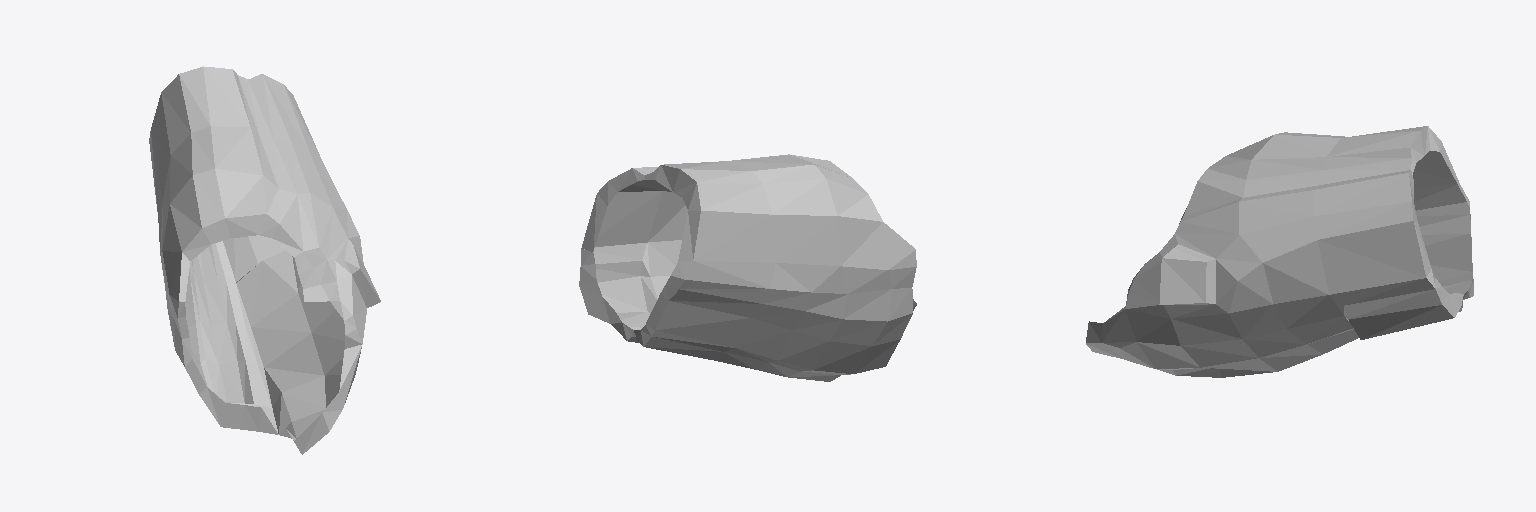
Rendered from X02RightForearm.obj.
3 views of the same model, side by side, from view 1: azimuth 30°, elevation 25°; view 2: azimuth 150°, elevation 25°; view 3: azimuth 270°, elevation 25° (orthographic).
Visible parts, largest first — view 1: CPA; view 2: CPA; view 3: CPA.
Boxes of the visible parts, box(x1,y1,x2,y2) form: CPA: box(149, 66, 380, 454); CPA: box(579, 154, 916, 381); CPA: box(1086, 126, 1473, 377).
Size of the model in its own units: 21.55 by 24.29 by 31.94.